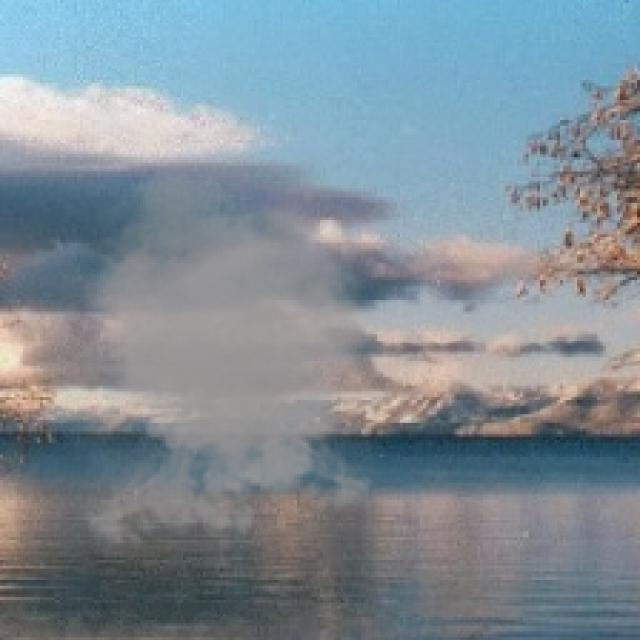Smoke: (26, 165, 432, 558)
